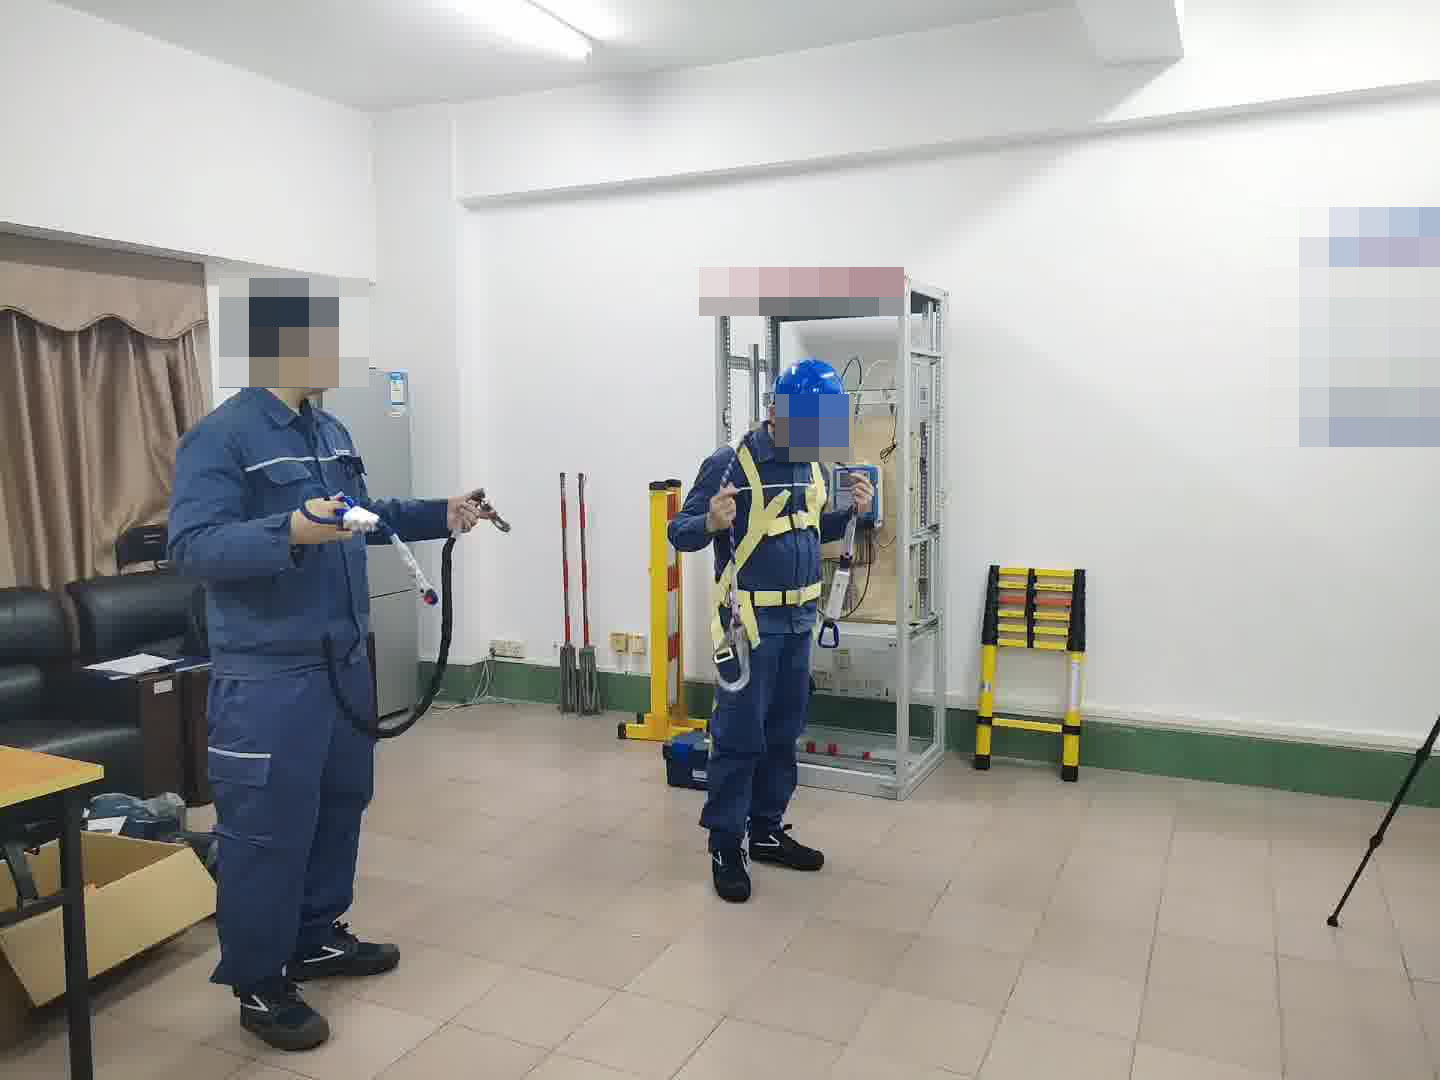downsuit: (205, 681, 376, 983), (704, 635, 816, 835)
halt: (772, 357, 851, 459)
hand: (287, 495, 356, 550), (449, 489, 489, 539), (714, 483, 738, 530), (851, 473, 877, 511)
noear: (268, 311, 333, 401)
person: (160, 276, 460, 1032), (675, 357, 879, 892)
safebelt: (700, 446, 825, 695)
unhalt: (235, 280, 346, 406)
upsuit: (159, 386, 454, 665), (695, 415, 855, 605)
